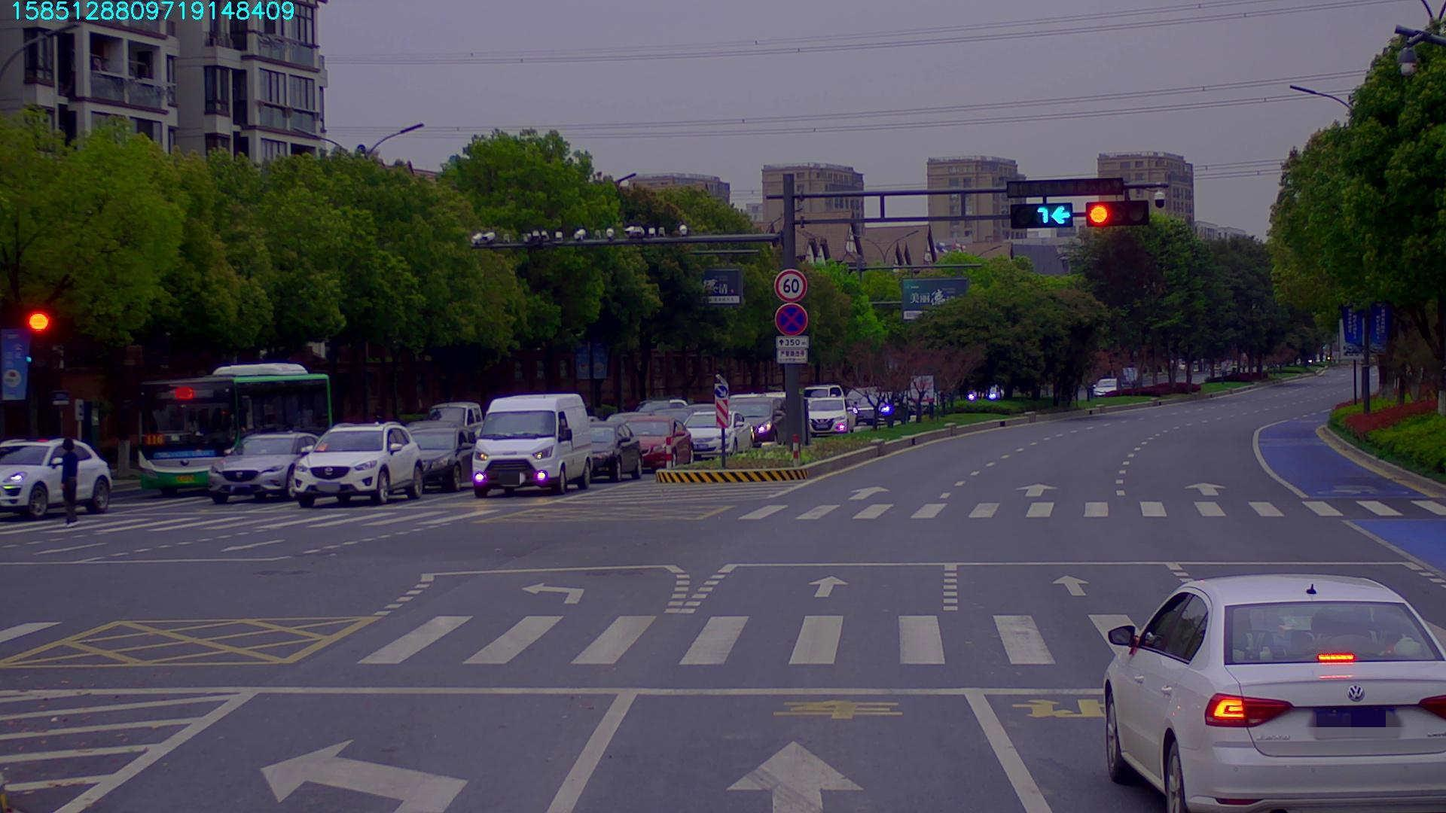green: (1008, 202, 1072, 229)
red: (1081, 200, 1150, 230)
